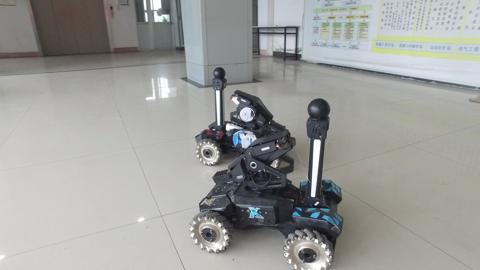chariot: (184, 92, 360, 269), (188, 62, 298, 169)
